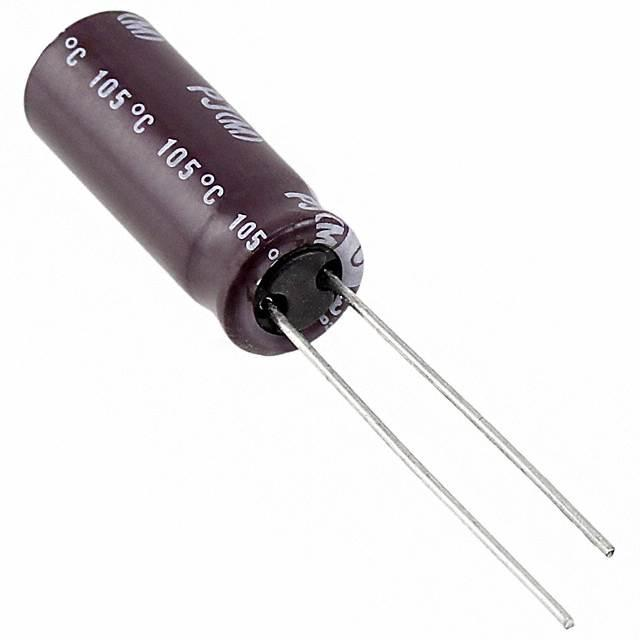Resistor: (23, 11, 366, 359)
